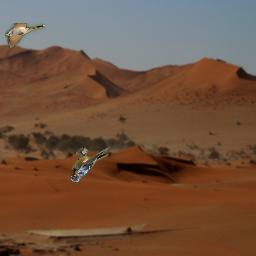Cuckoo: (5, 23, 45, 48)
Swallow: (70, 146, 110, 182)
